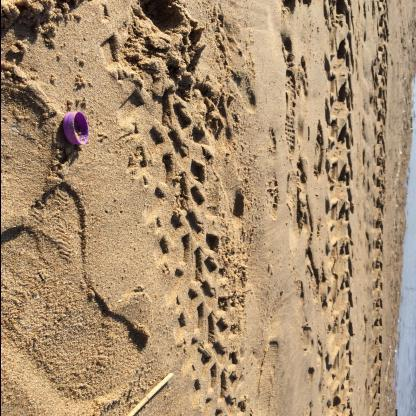plastik: (63, 113, 89, 147)
